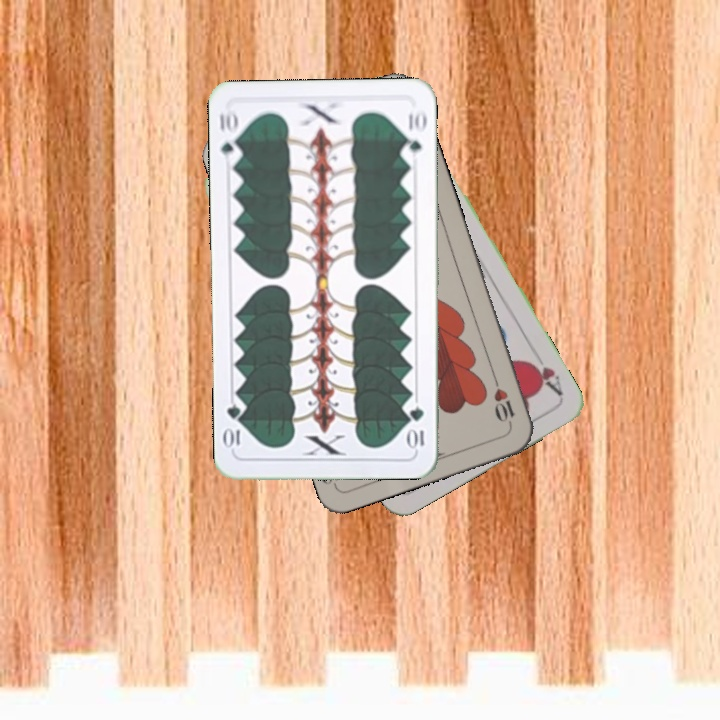G10: (215, 106, 243, 165), (406, 402, 427, 452)
H10: (488, 371, 518, 429)
HA: (522, 355, 566, 399)
